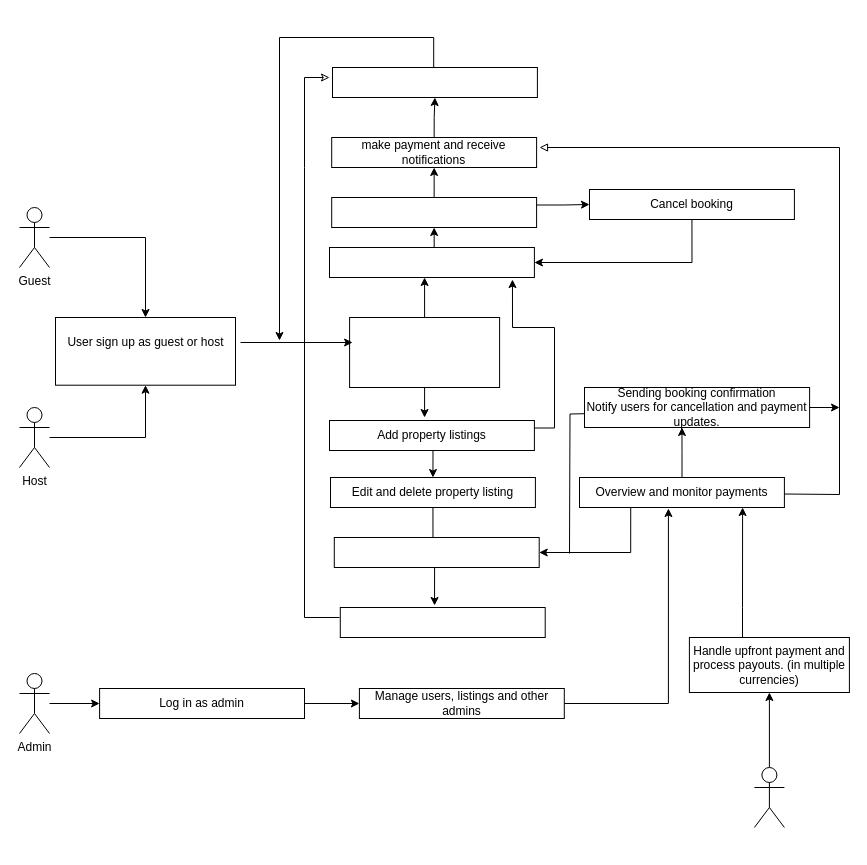
Image size: 867x865. Some labels were removed from this diagram. The centre of each missing label's shape, as x and y in pixels:
"Create and track booking" goes at [434,212].
"Log in with email and password/ Update profile" goes at [424,352].
"Payment System" goes at [768,797].
"Receive payment and notifications" goes at [436,552].
"Respond to reviews" goes at [442,622].
"review properties" goes at [434,82].
"search and filter properties (price, location, amenities,)" goes at [431,262].
